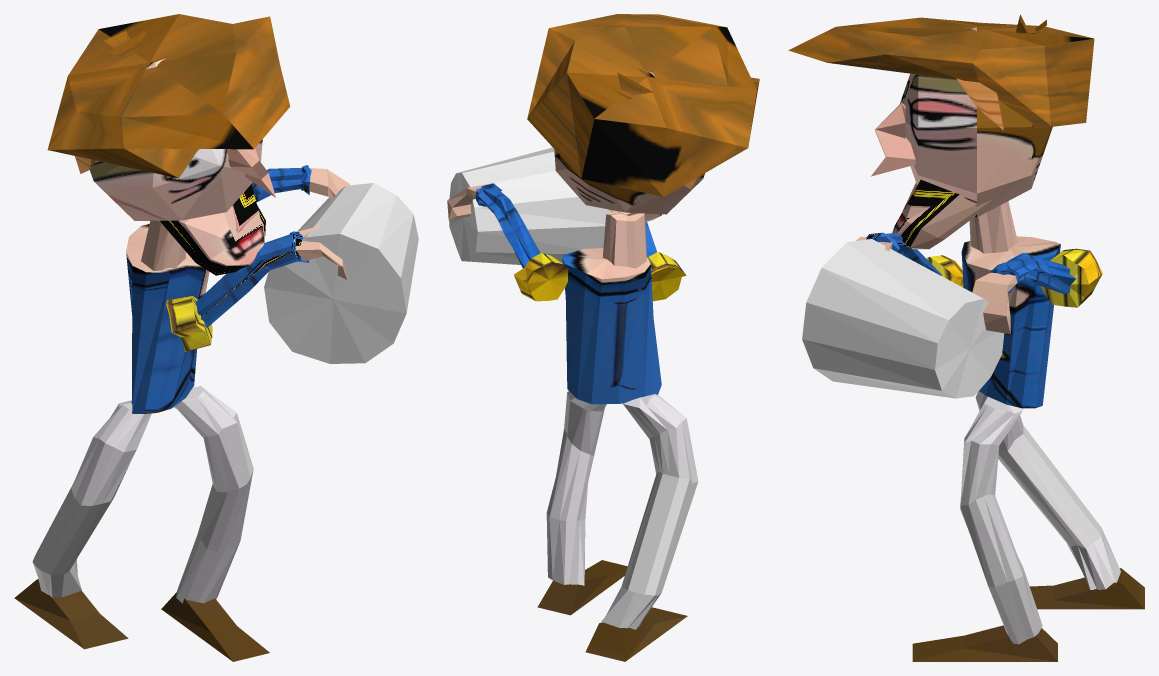
The model's file is KRP.glb.
The picture shows the model from 3 angles, left to right: view 1: azimuth 30°, elevation 25°; view 2: azimuth 150°, elevation 25°; view 3: azimuth 270°, elevation 25°; orthographic projection. The views are drawn at different scales.
Parts seen in each view (by area): view 1: KRP; view 2: KRP; view 3: KRP.
Part boxes in pixels (bbox=[...]): KRP: bbox=[14, 14, 418, 661]; KRP: bbox=[447, 14, 759, 661]; KRP: bbox=[788, 14, 1144, 661].
Bounding box in the file's own units: 124 × 204 × 108.
1 material, 1 textured.
